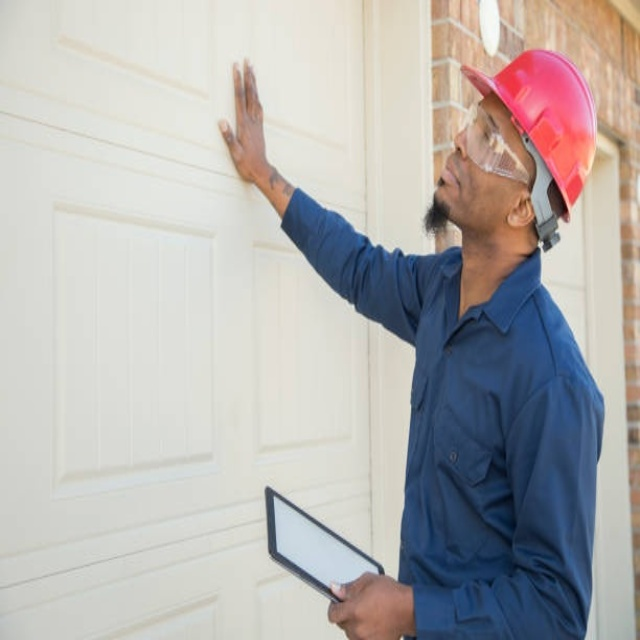Gafas: (458, 96, 531, 193)
Sin_guantes: (216, 56, 277, 197), (326, 570, 409, 640)
Sin_mascara: (438, 138, 468, 202)
